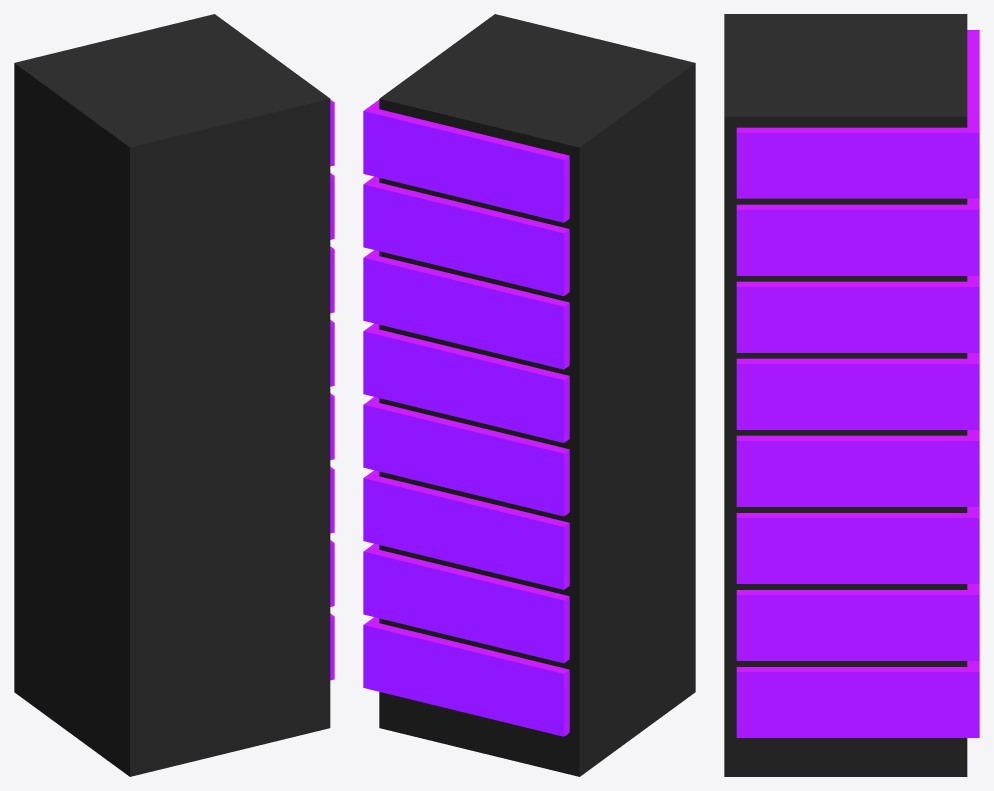
File: building1.fbx
The picture shows the model from 3 angles, left to right: view 1: azimuth 30°, elevation 25°; view 2: azimuth 150°, elevation 25°; view 3: azimuth 270°, elevation 25°; orthographic projection. The views are drawn at different scales.
Parts seen in each view (by area): view 1: Cube; view 2: Cube, Cube_1, Cube_6, Cube_7, Cube_3, Cube_8, Cube_4, Cube_2, Cube_5; view 3: Cube, Cube_1, Cube_2, Cube_5, Cube_4, Cube_3, Cube_8, Cube_7, Cube_6.
Boxes of the visible parts, x1,y1,x2,y2 form: Cube: (14,14,330,776); Cube: (379,14,695,776); Cube_1: (363,100,569,222); Cube_6: (363,470,569,589); Cube_7: (363,543,569,663); Cube_3: (363,250,569,369); Cube_8: (363,617,569,736); Cube_4: (363,323,569,442); Cube_2: (363,176,569,295); Cube_5: (363,397,569,516); Cube: (724,14,967,776); Cube_1: (736,30,979,198); Cube_2: (736,198,979,275); Cube_5: (736,430,979,506); Cube_4: (736,353,979,429); Cube_3: (736,276,979,352); Cube_8: (736,661,979,737); Cube_7: (736,584,979,660); Cube_6: (736,507,979,583).
Bounding box in the file's own units: 210 × 600 × 210.
